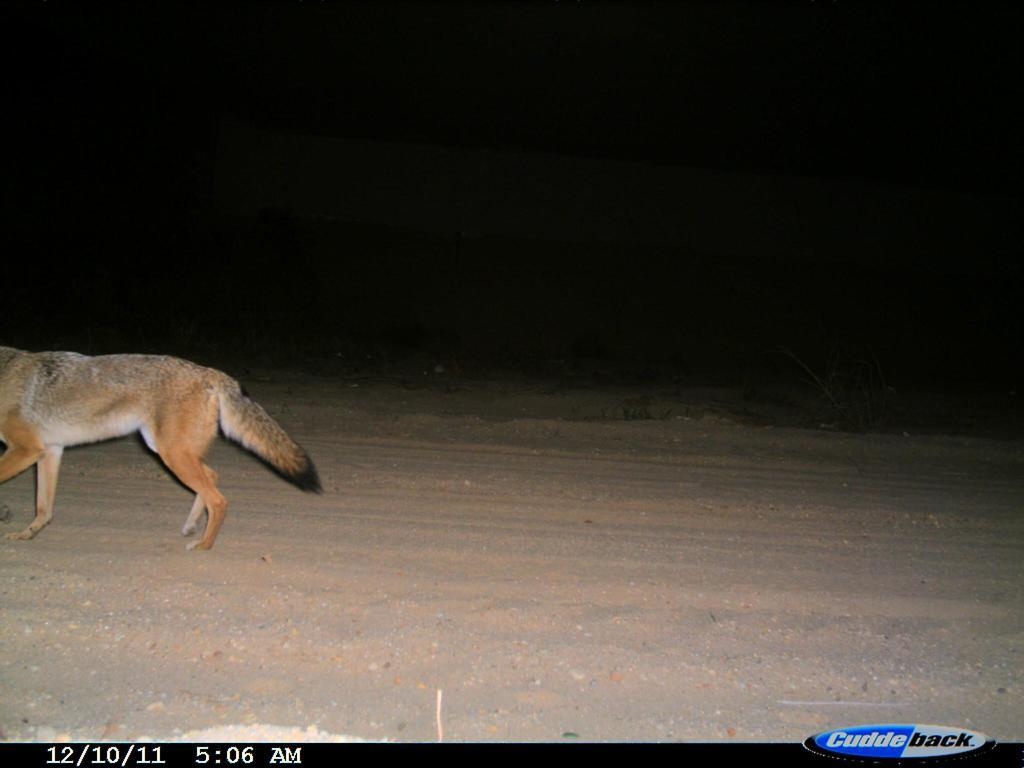coyote: (1, 333, 327, 559)
